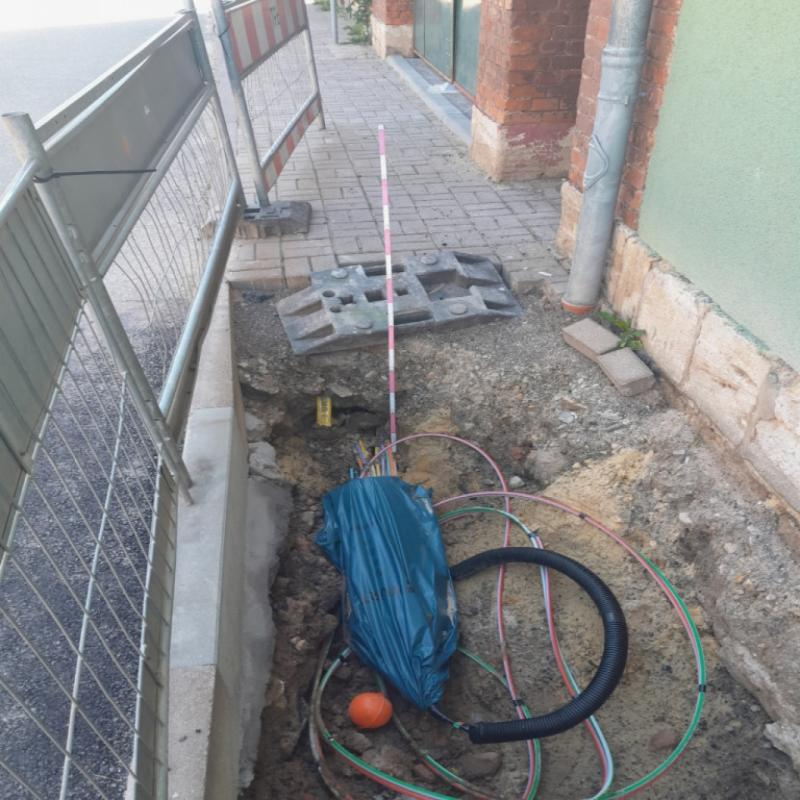Kugelmarker: (349, 692, 392, 729)
NT-Muffen: (316, 474, 459, 715)
